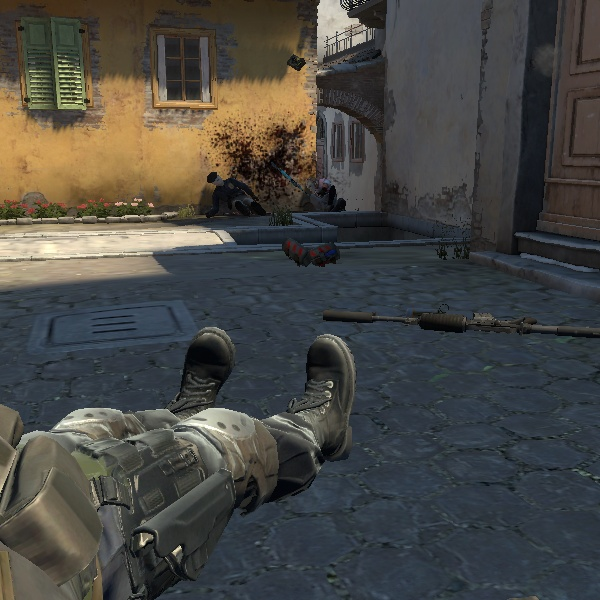ct_head: (320, 179, 335, 193)
